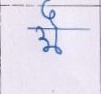ai_matra: (41, 0, 60, 27)
